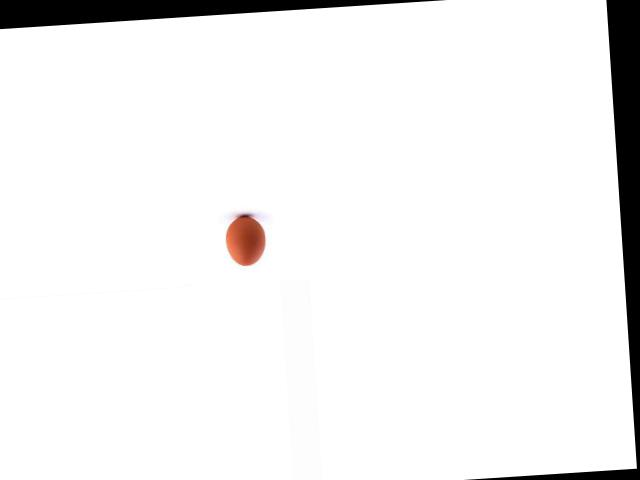egg: (225, 215, 268, 266)
